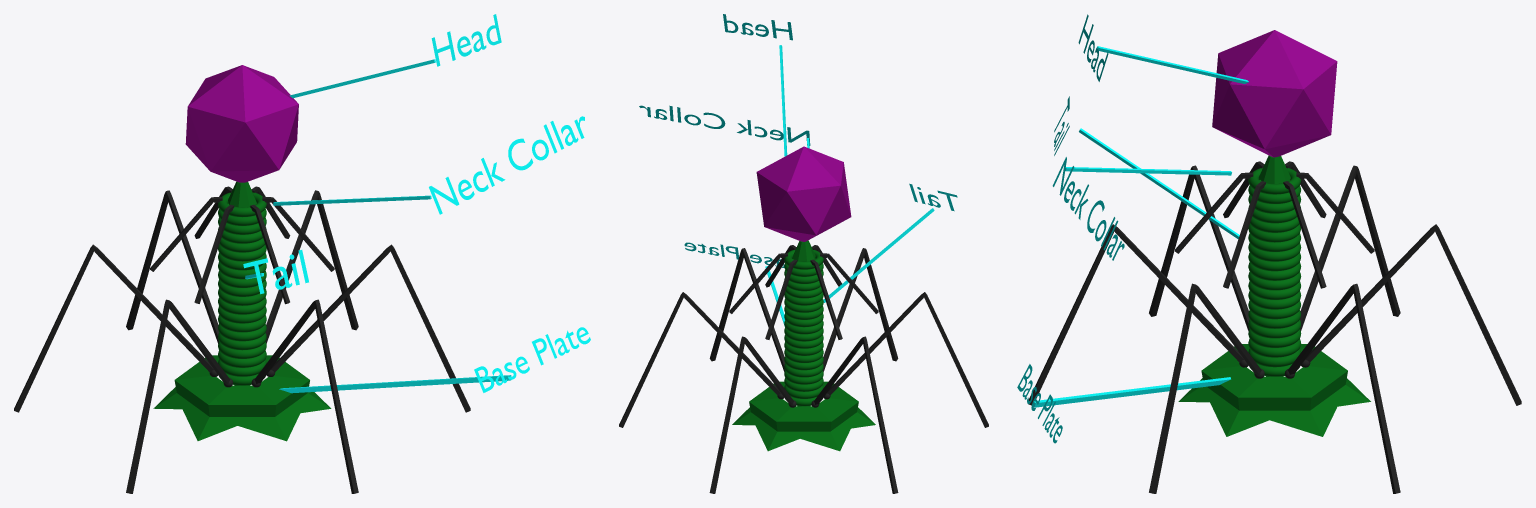
Rendered from virus.glb.
The picture shows the model from 3 angles, left to right: view 1: azimuth 30°, elevation 25°; view 2: azimuth 150°, elevation 25°; view 3: azimuth 270°, elevation 25°; orthographic projection. The views are drawn at different scales.
Parts seen in each view (by area): view 1: Vert.006, Text.001, BezierCurve.003, Text.003, Text, Text.002, BezierCurve.001, BezierCurve; view 2: Vert.006, Text.001, Text, BezierCurve.002, Text.003; view 3: Vert.006, BezierCurve.003, Text.001, BezierCurve.002, BezierCurve.001, BezierCurve, Text.003.
Boxes of the visible parts, <box> form: Vert.006: <box>14,65,470,493</box>; Text.001: <box>429,116,584,214</box>; BezierCurve.003: <box>279,375,511,393</box>; Text.003: <box>474,327,590,392</box>; Text: <box>431,14,501,66</box>; Text.002: <box>243,250,308,294</box>; BezierCurve.001: <box>273,195,431,205</box>; BezierCurve: <box>289,59,435,98</box>; Vert.006: <box>619,146,988,493</box>; Text.001: <box>639,105,810,145</box>; Text: <box>723,14,792,40</box>; BezierCurve.002: <box>823,208,934,302</box>; Text.003: <box>684,242,784,267</box>; Vert.006: <box>1028,30,1521,493</box>; BezierCurve.003: <box>1033,377,1230,407</box>; Text.001: <box>1052,157,1124,260</box>; BezierCurve.002: <box>1079,128,1239,238</box>; BezierCurve.001: <box>1065,167,1231,175</box>; BezierCurve: <box>1096,46,1248,83</box>; Text.003: <box>1017,364,1062,443</box>.
Size of the model in its own units: 12.34 by 10.94 by 11.19.
